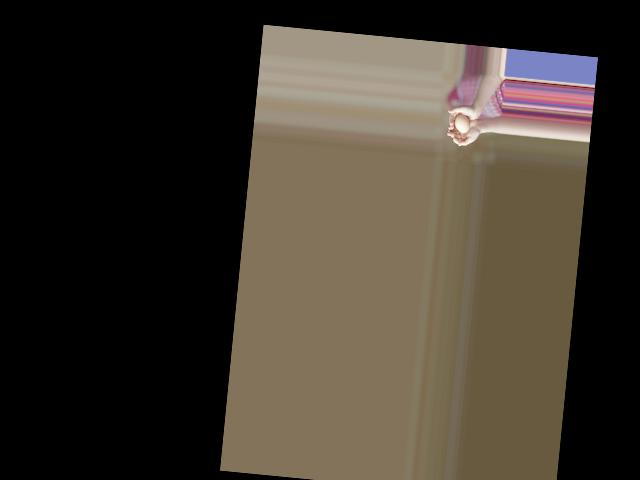egg: (453, 113, 470, 133)
